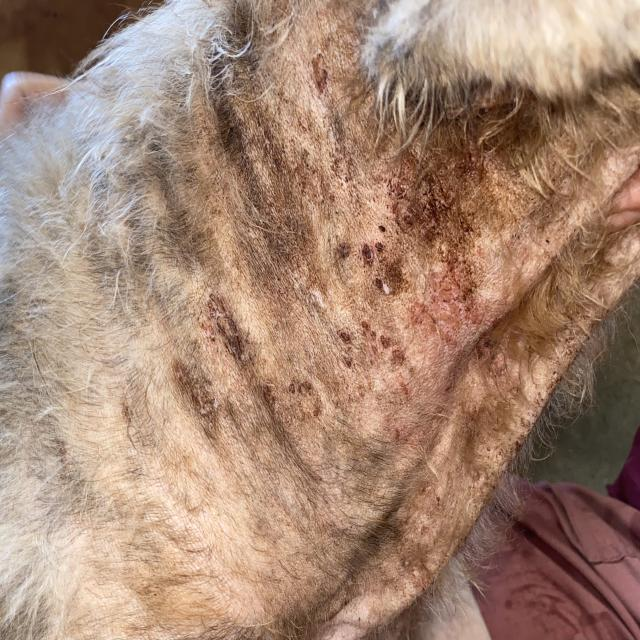demodicosis: (230, 74, 537, 432), (129, 287, 223, 436)
